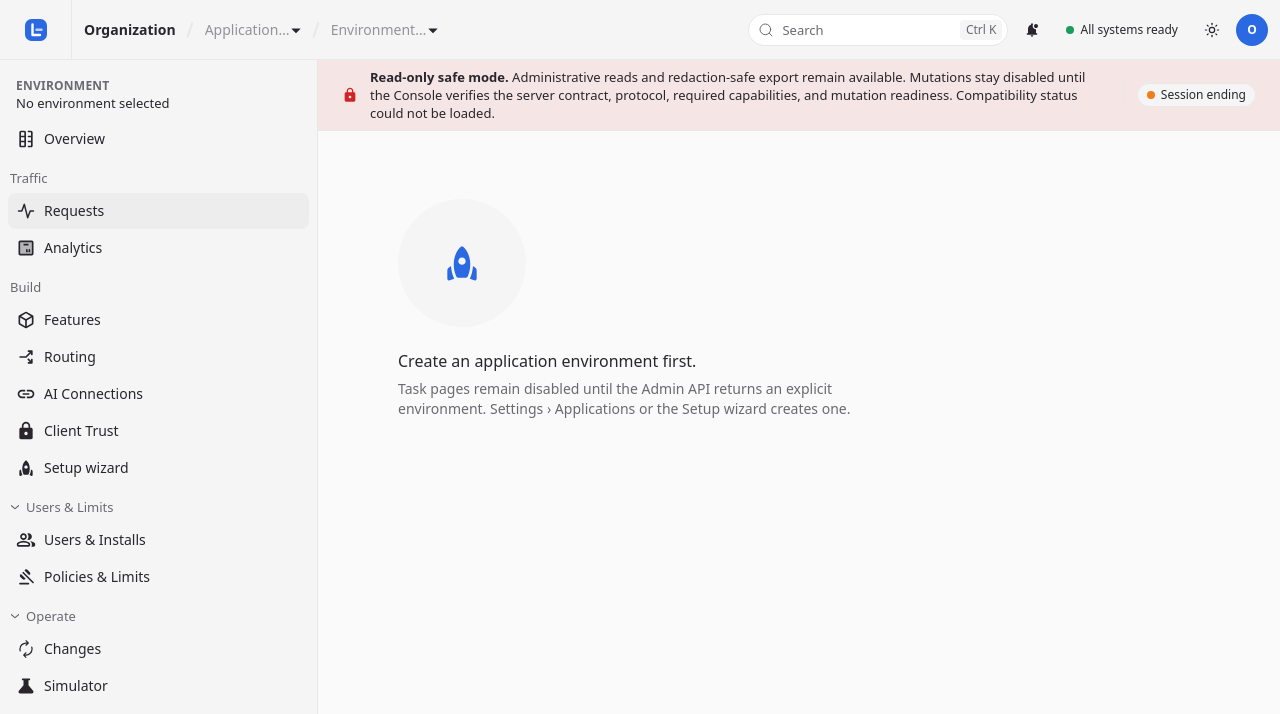
AppShell › opens the account page from the account menu
Click the button named "Your account: owner@example.test" at [1252, 30], box [1236,14,1268,46]
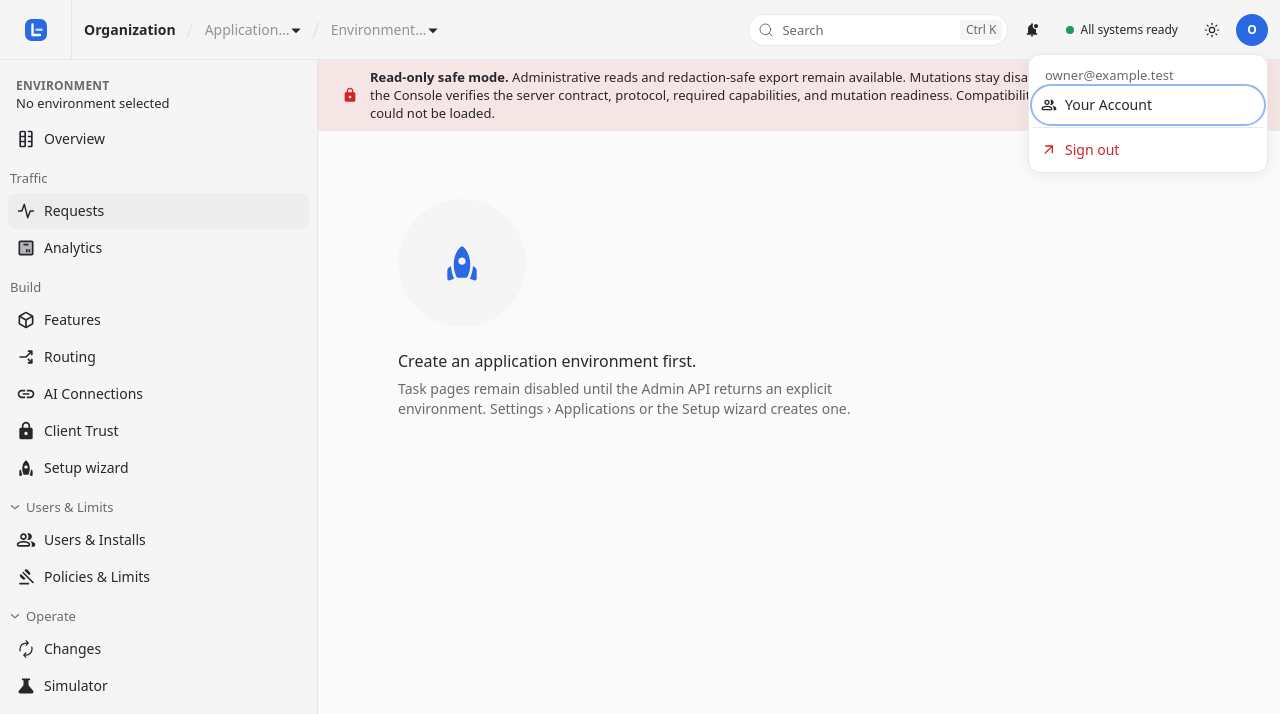
Click the menu item "Your Account" at [1148, 104], box [1033,86,1263,122]
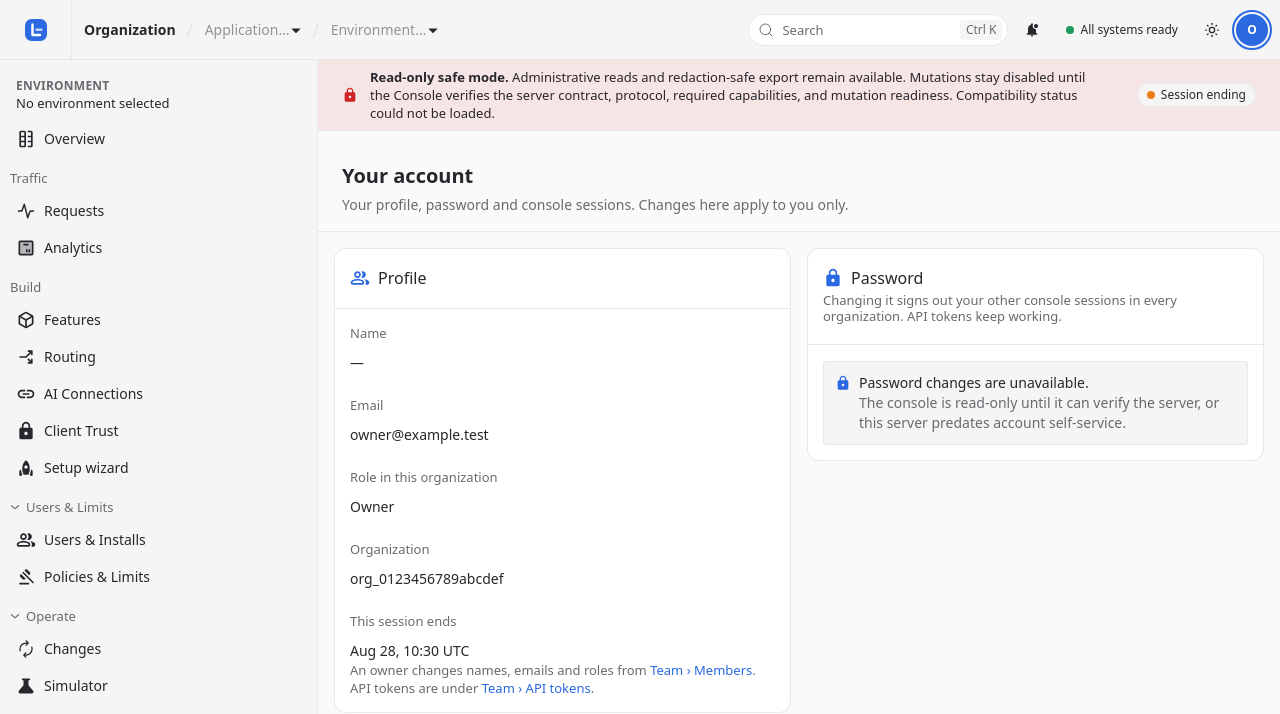
Expected: the heading "Your account" is shown, [342,163,473,189]
Expected: the text "Owner" is shown, [350,497,394,516]
Expected: the text "Password changes are unavailable." is shown, [859,373,1089,392]
